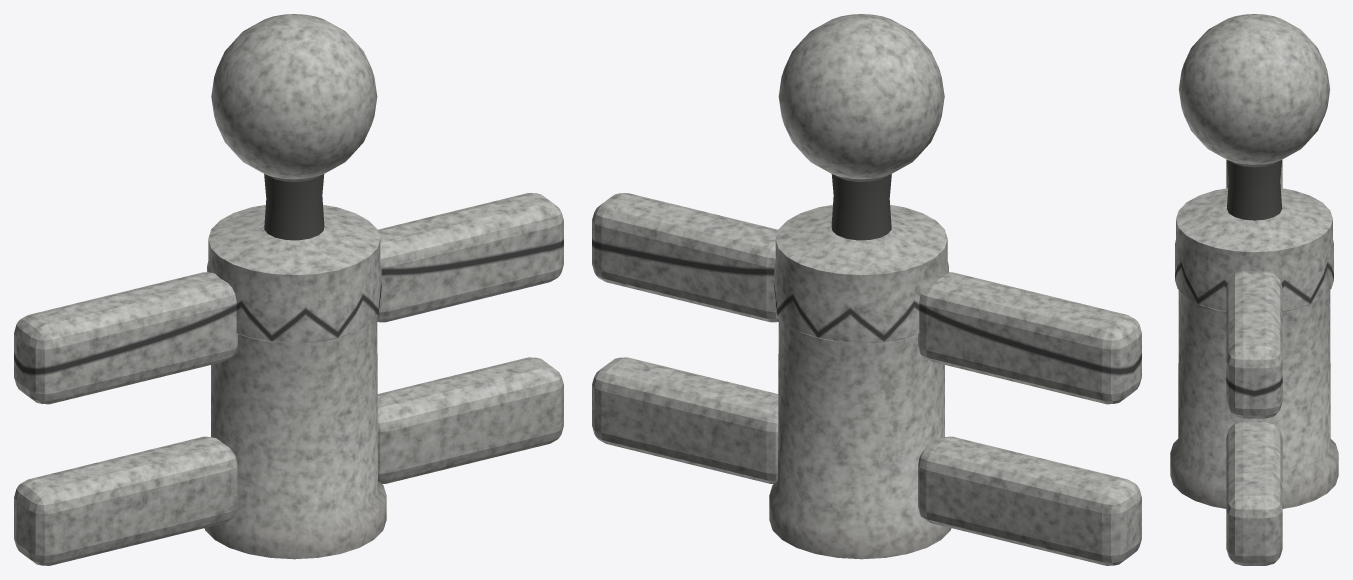
Rendered from balustrade_hd.glb.
3 renders of one model, left to right at view 1: azimuth 30°, elevation 25°; view 2: azimuth 150°, elevation 25°; view 3: azimuth 270°, elevation 25°, orthographic. The views are drawn at different scales.
Visible parts, largest first — view 1: balustrade; view 2: balustrade; view 3: balustrade.
Part boxes in pixels (bbox=[...]): balustrade: bbox=[14, 14, 563, 565]; balustrade: bbox=[592, 14, 1141, 565]; balustrade: bbox=[1170, 14, 1338, 565].
Size of the model in its own units: 1 by 0.895 by 0.3.
Materials: 1 (1 with a texture image).
